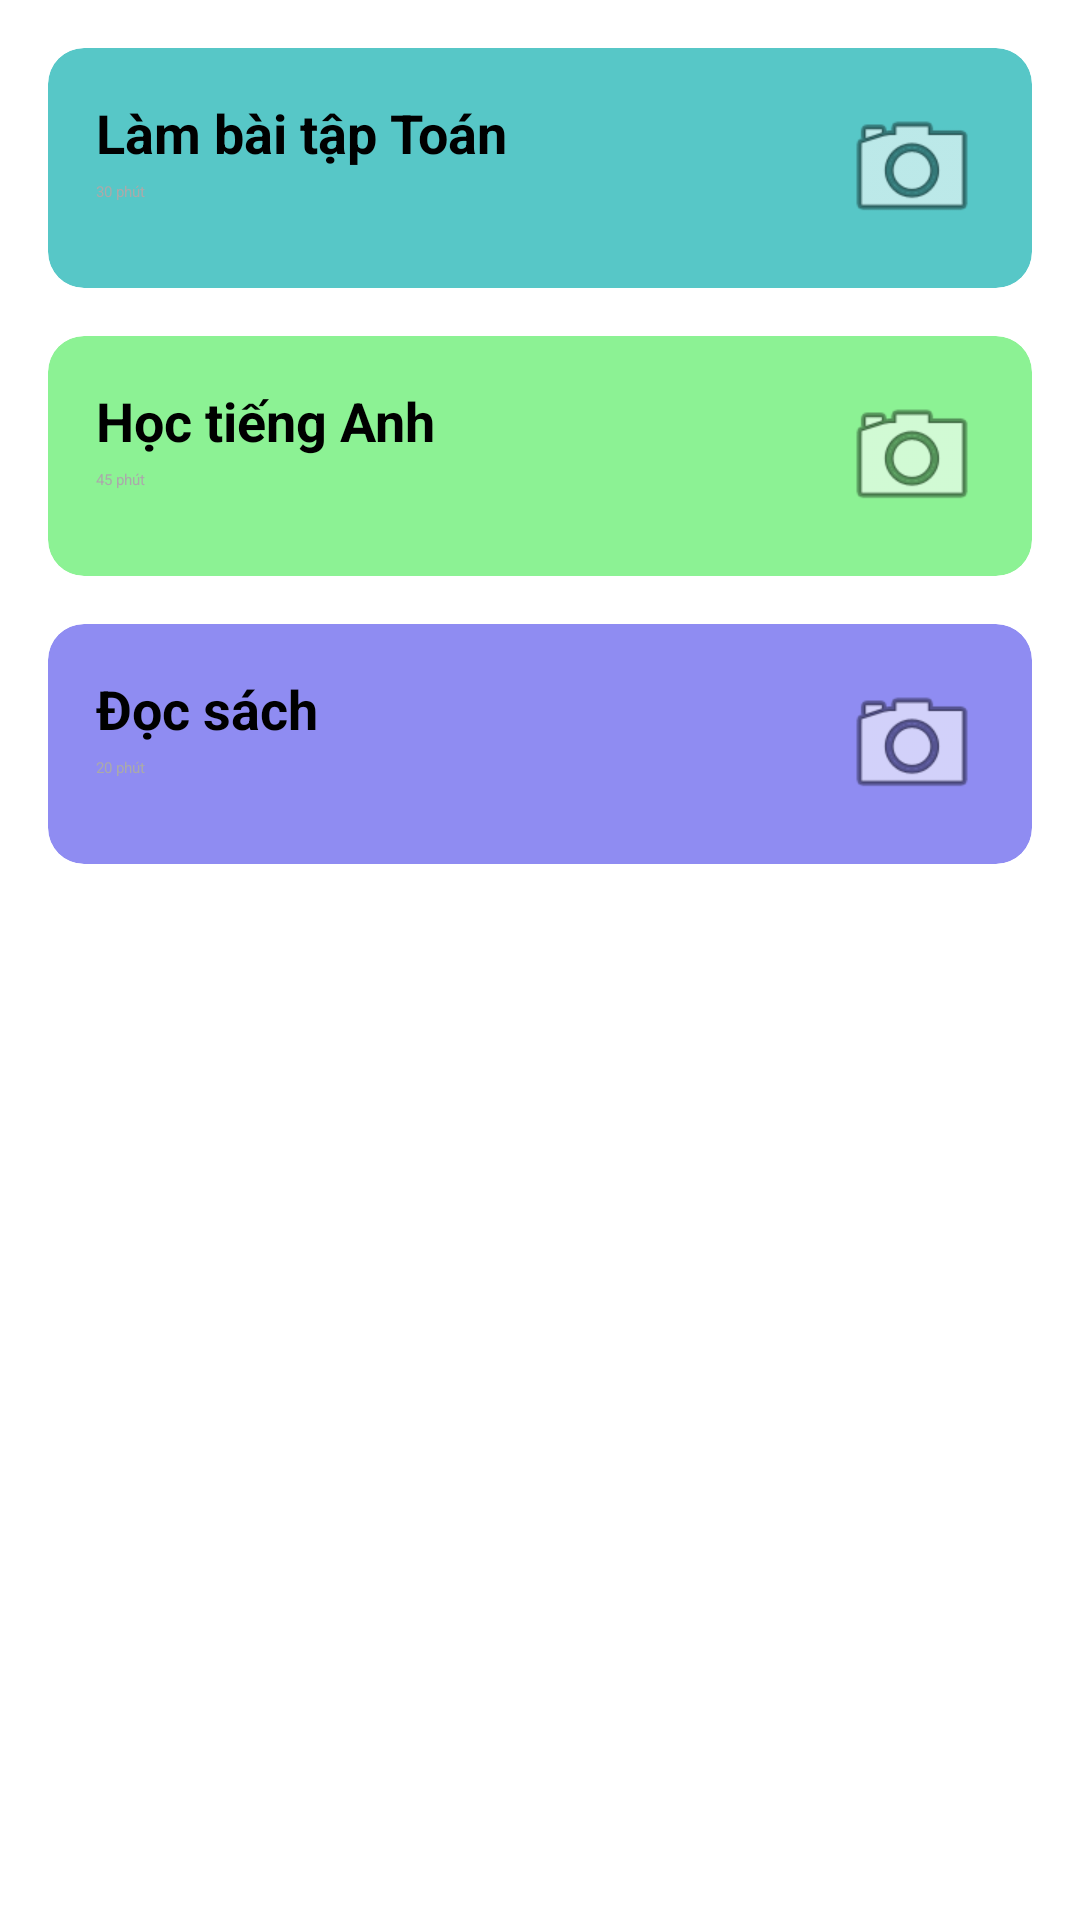

Screen size 1080x1920. Icon name, then its center in pixels as (x,y):
camera: (912,165), (912,453), (912,741)
